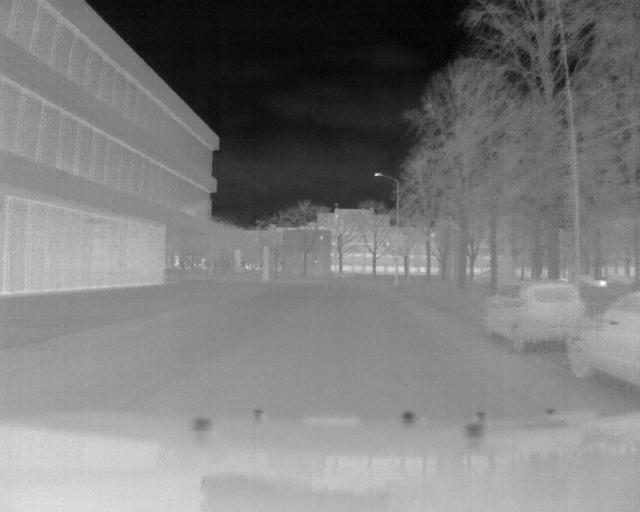car: (483, 277, 589, 354), (566, 289, 640, 392)
